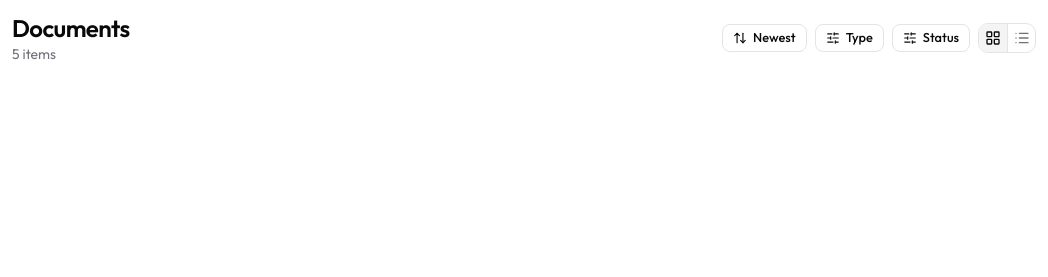
Test: PageHeader › renders all type filter options
The width and height of the screenshot is (1048, 277).
Click the button "Type" at (849, 38), box x1=815 y1=24 x2=884 y2=52
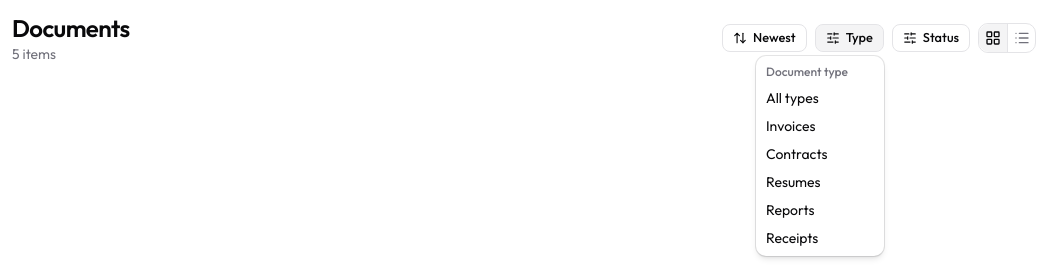
Now the menu item "All types" is shown, box x1=766 y1=89 x2=819 y2=107
Now the menu item "Invoices" is shown, box x1=766 y1=117 x2=816 y2=135
Now the menu item "Contracts" is shown, box x1=766 y1=145 x2=827 y2=163
